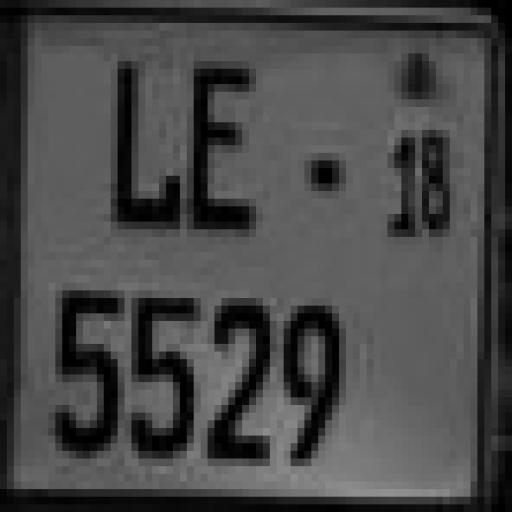2: (208, 278, 274, 465)
5: (125, 294, 195, 459), (55, 301, 124, 454)
9: (280, 302, 348, 467)
E: (183, 43, 259, 238)
L: (107, 58, 185, 234)
